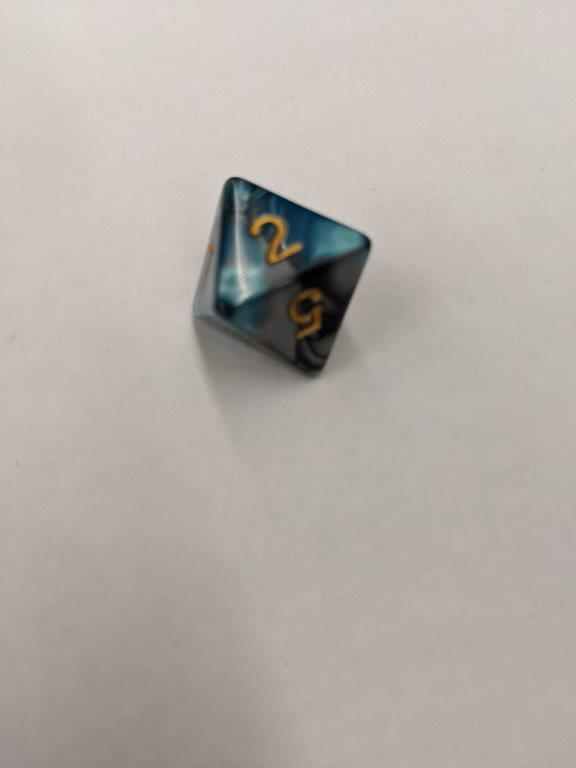d8-2: (192, 175, 375, 376)
